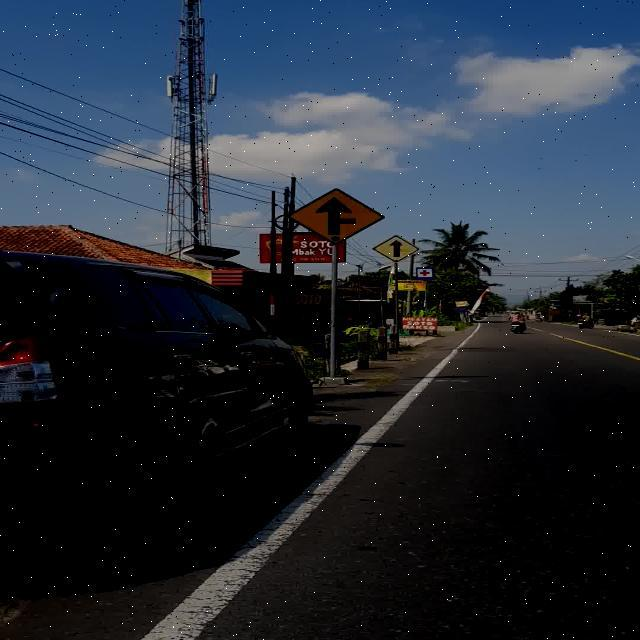Persimpangan 3 Prioritas Kanan: (286, 188, 384, 245)
